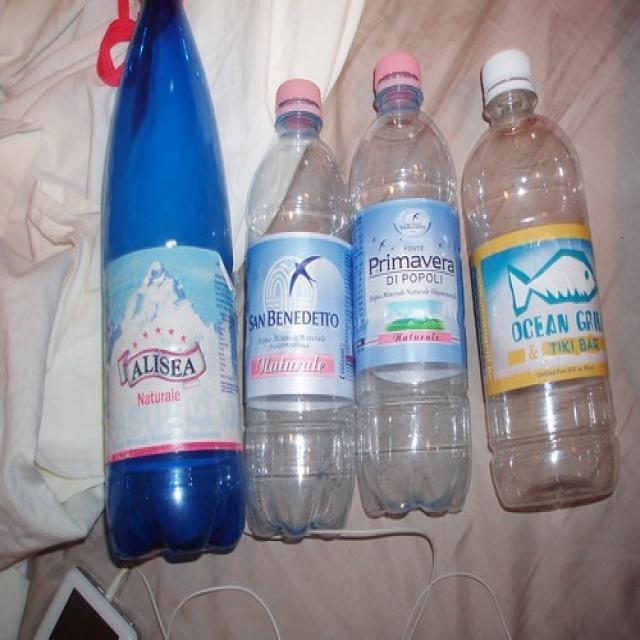plastic_bottle: (102, 1, 246, 561), (461, 50, 620, 508), (347, 53, 471, 518), (244, 79, 360, 539)
